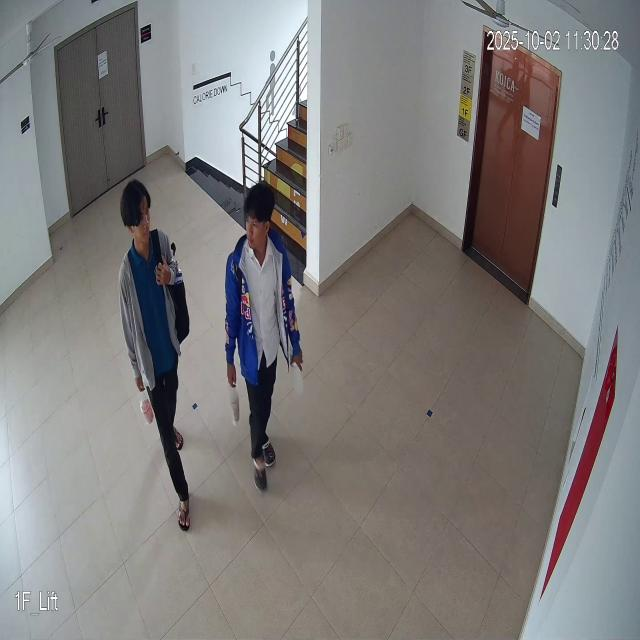face: (119, 176, 157, 252), (240, 180, 278, 253)
